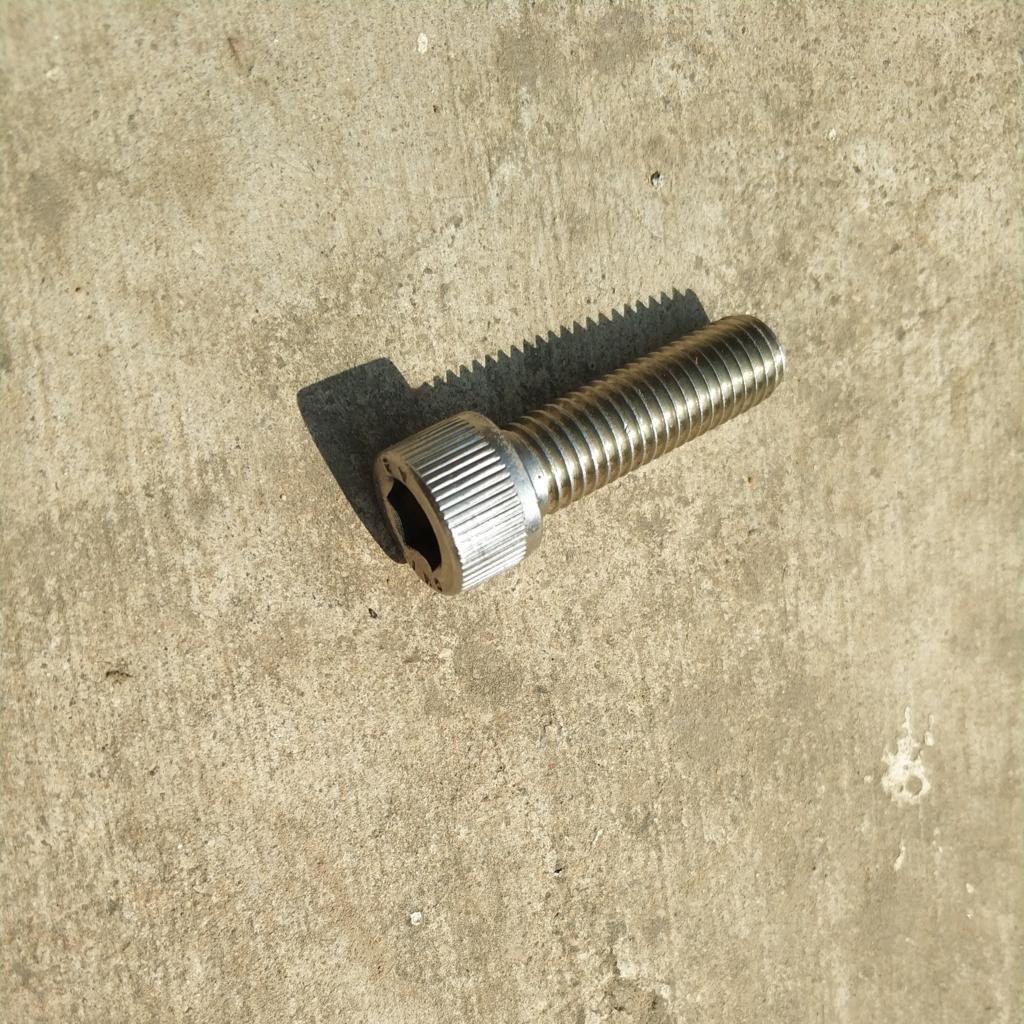screwtype1silver: (368, 312, 792, 597)
